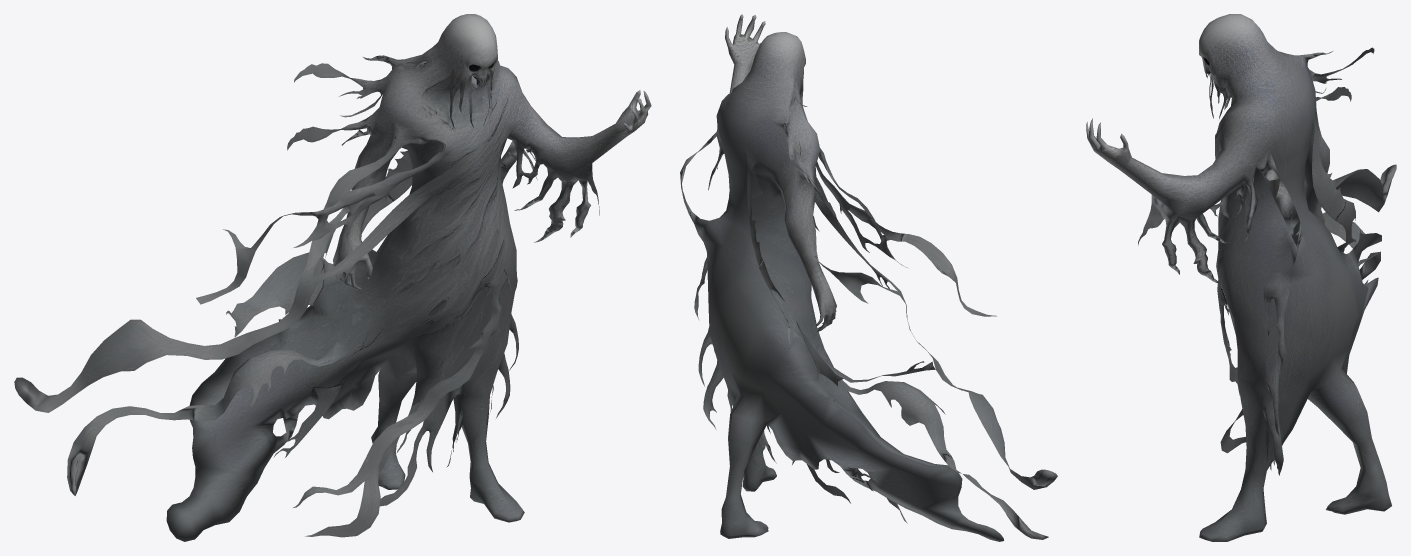
File: selected.glb
3 renders of one model, left to right at view 1: azimuth 30°, elevation 25°; view 2: azimuth 150°, elevation 25°; view 3: azimuth 270°, elevation 25°, orthographic. The views are drawn at different scales.
Parts seen in each view (by area): view 1: tripo_node_ea3e6c0f-60ea-46f9-986f-398450523cf5; view 2: tripo_node_ea3e6c0f-60ea-46f9-986f-398450523cf5; view 3: tripo_node_ea3e6c0f-60ea-46f9-986f-398450523cf5.
Part boxes in pixels (<box>): tripo_node_ea3e6c0f-60ea-46f9-986f-398450523cf5: <box>14,14,651,541</box>; tripo_node_ea3e6c0f-60ea-46f9-986f-398450523cf5: <box>680,14,1057,541</box>; tripo_node_ea3e6c0f-60ea-46f9-986f-398450523cf5: <box>1086,14,1396,541</box>.
Bounding box in the file's own units: 0.998 × 0.9707 × 0.5371.
Materials: 1 (1 with a texture image).
